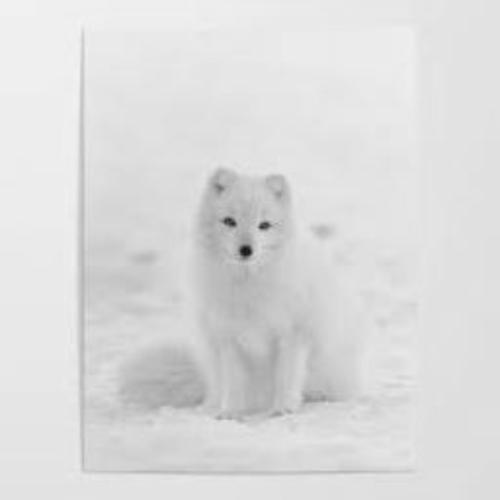arctic_fox-endangered: (112, 167, 362, 422)
